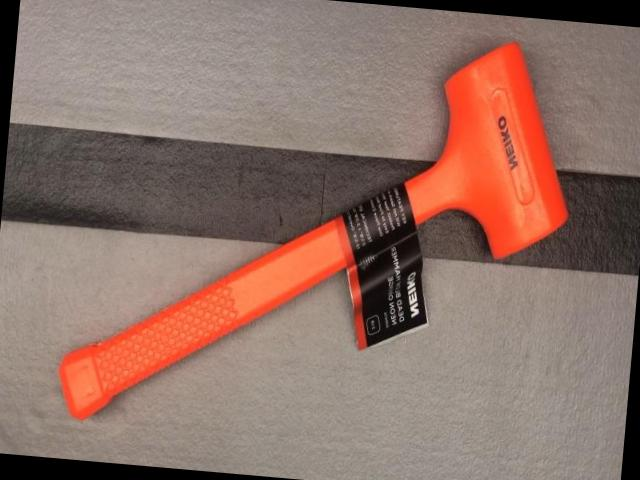hammer: (56, 6, 584, 460)
